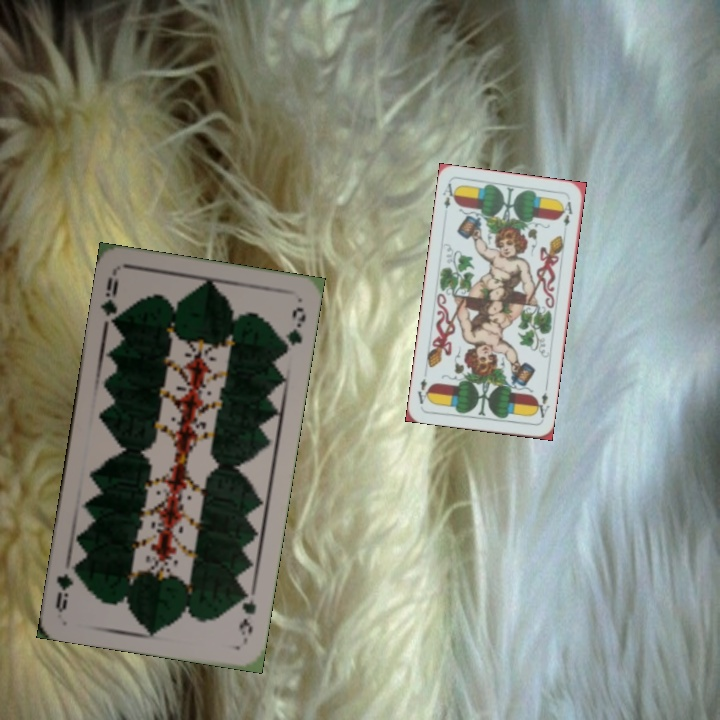EA: (531, 382, 552, 421), (438, 179, 459, 211)
G9: (96, 269, 122, 330), (235, 584, 259, 644)
